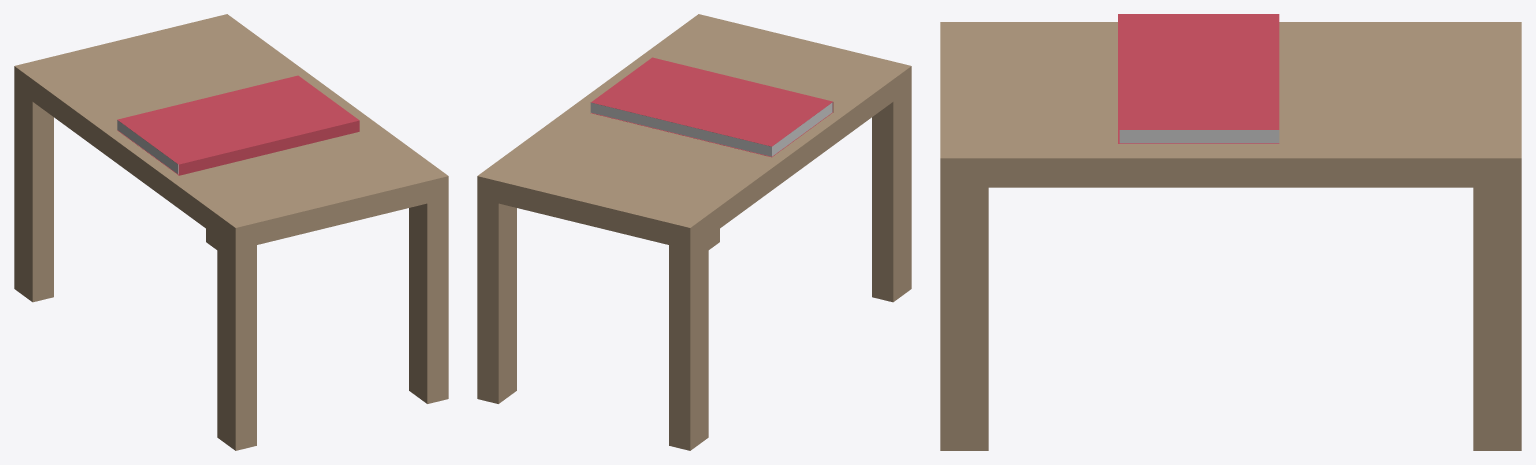
File: Table Model.glb
3 renders of one model, left to right at view 1: azimuth 30°, elevation 25°; view 2: azimuth 150°, elevation 25°; view 3: azimuth 270°, elevation 25°, orthographic. The views are drawn at different scales.
Visible parts, largest first — view 1: Mesh_Mesh_head_geo.001_lambert2SG.001; view 2: Mesh_Mesh_head_geo.001_lambert2SG.001; view 3: Mesh_Mesh_head_geo.001_lambert2SG.001.
Part boxes in pixels (x1=…): Mesh_Mesh_head_geo.001_lambert2SG.001: x1=14, y1=14, x2=448, y2=450; Mesh_Mesh_head_geo.001_lambert2SG.001: x1=477, y1=14, x2=911, y2=450; Mesh_Mesh_head_geo.001_lambert2SG.001: x1=940, y1=14, x2=1521, y2=450.
Size of the model in its own units: 20 by 21.01 by 36.
